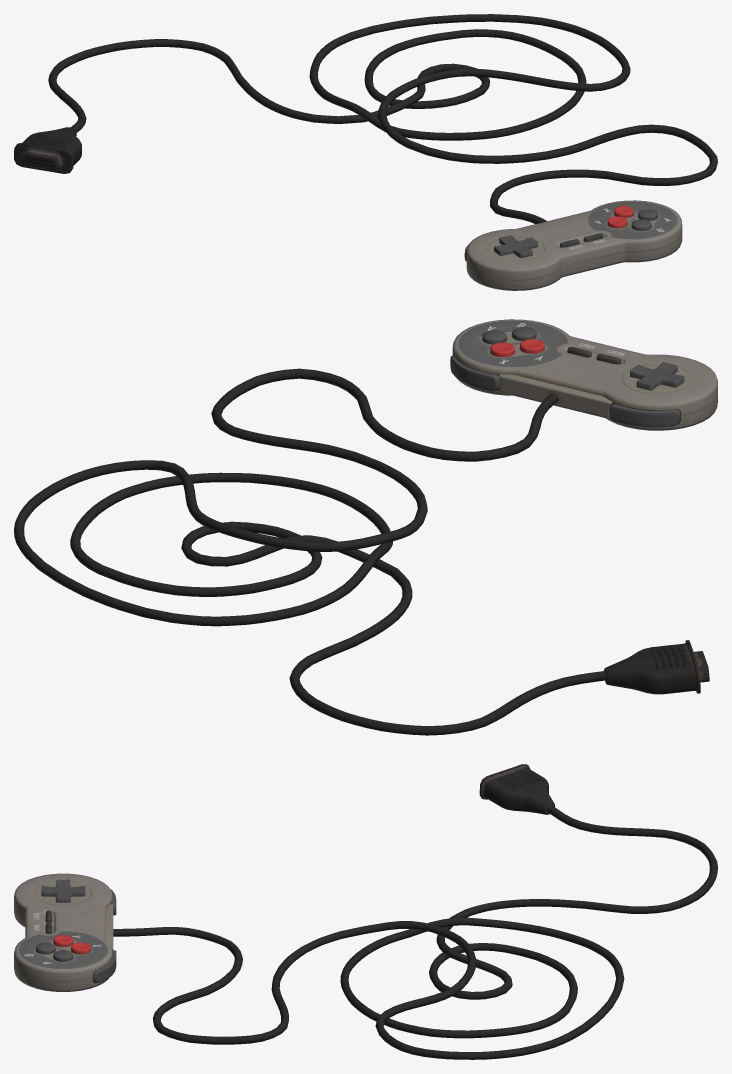
File: gamepad.gltf
The picture shows the model from 3 angles, top to bottom: view 1: azimuth 30°, elevation 25°; view 2: azimuth 150°, elevation 25°; view 3: azimuth 270°, elevation 25°; orthographic projection. The views are drawn at different scales.
Visible parts, largest first — view 1: gamepad; view 2: gamepad; view 3: gamepad.
Part boxes in pixels (bbox=[...]): gamepad: bbox=[14, 14, 717, 290]; gamepad: bbox=[14, 319, 717, 735]; gamepad: bbox=[14, 764, 717, 1059].
Size of the model in its own units: 0.4041 by 0.0189 by 0.435.
1 material, 1 textured.
